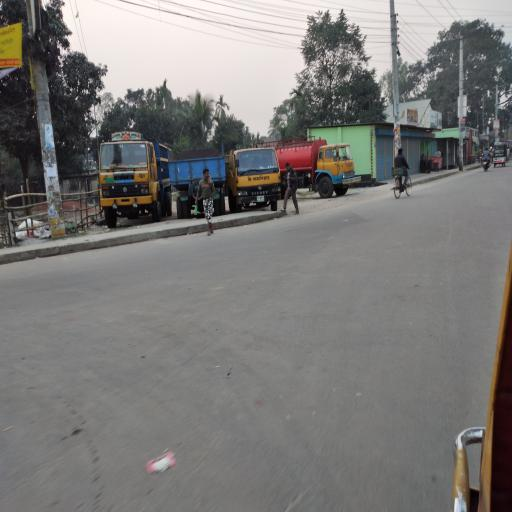auto rickshaw: (493, 142, 508, 169)
bicycle: (392, 148, 416, 200)
motorbike: (482, 149, 494, 173)
truck: (93, 129, 176, 226), (274, 136, 368, 204), (166, 138, 230, 222), (225, 141, 285, 220)
